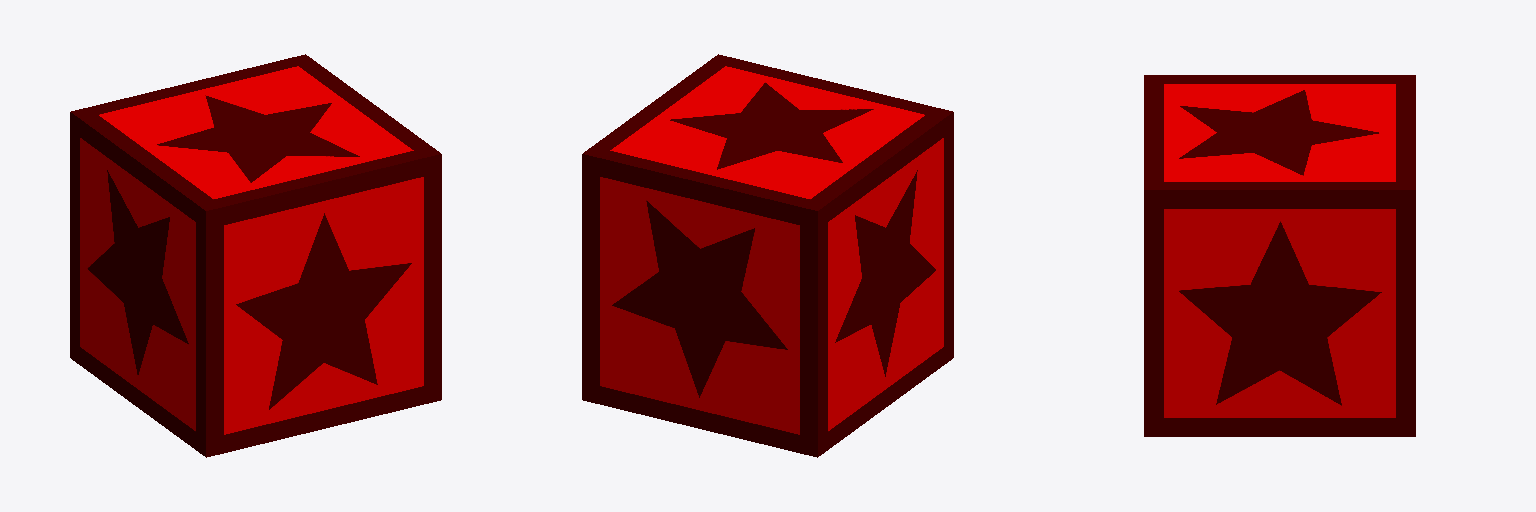
The picture shows the model from 3 angles: view 1: azimuth 30°, elevation 25°; view 2: azimuth 150°, elevation 25°; view 3: azimuth 270°, elevation 25°; orthographic projection.
Visible parts, largest first — view 1: Cube; view 2: Cube; view 3: Cube.
Part boxes in pixels (bbox=[...]): Cube: bbox=[70, 54, 441, 457]; Cube: bbox=[582, 54, 953, 457]; Cube: bbox=[1144, 75, 1415, 436].
Size of the model in its own units: 0.6 by 0.6 by 0.6.
Materials: 1 (1 with a texture image).